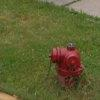Hydrant: (40, 32, 88, 83)
